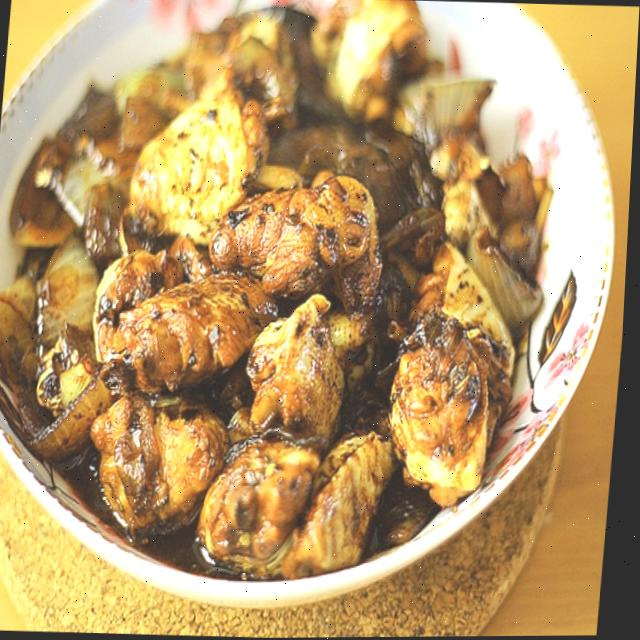鸡肉料理 含炸鸡: (0, 0, 627, 596)
